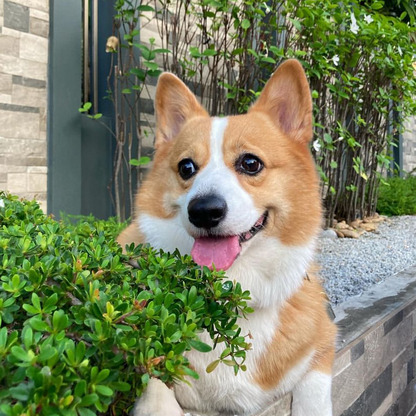Corgi: (112, 58, 340, 395)
